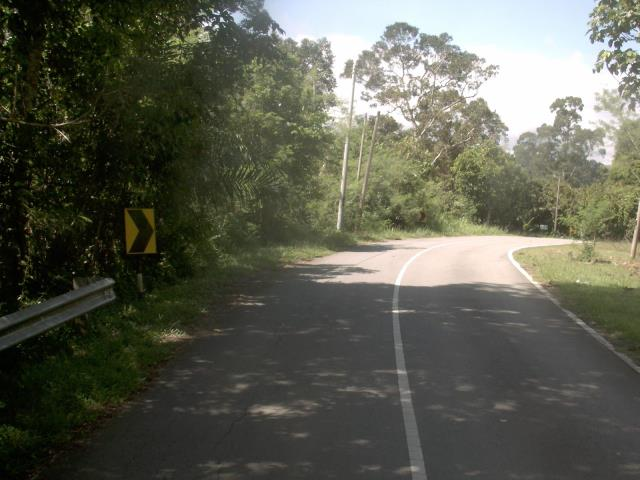traffic_sign: (115, 200, 165, 265)
